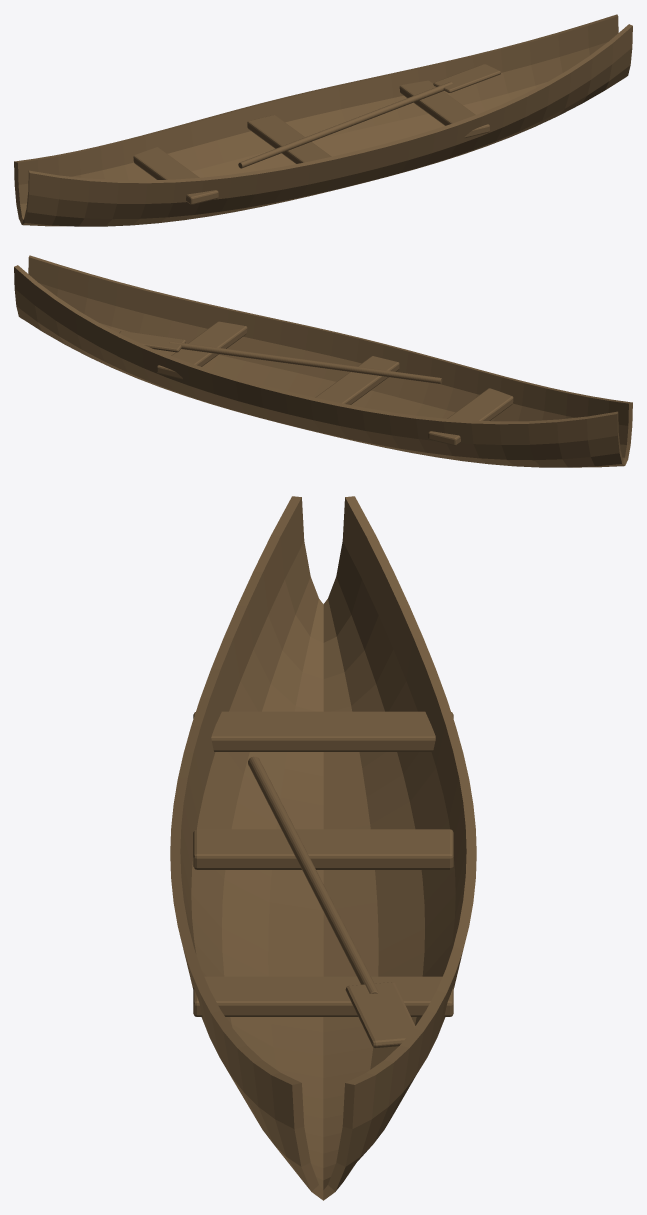
File: FishingCanoe.fbx
The picture shows the model from 3 angles, top to bottom: view 1: azimuth 30°, elevation 25°; view 2: azimuth 150°, elevation 25°; view 3: azimuth 270°, elevation 25°; orthographic projection. The views are drawn at different scales.
Parts seen in each view (by area): view 1: FishingCanoe; view 2: FishingCanoe; view 3: FishingCanoe.
Boxes of the visible parts, x1=… form: FishingCanoe: x1=14, y1=14, x2=632, y2=226; FishingCanoe: x1=14, y1=255, x2=632, y2=467; FishingCanoe: x1=170, y1=496, x2=476, y2=1200.
Size of the model in its own units: 600 by 132 by 85.28.
